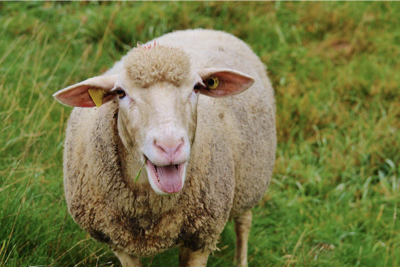koyun: (53, 39, 277, 265)
